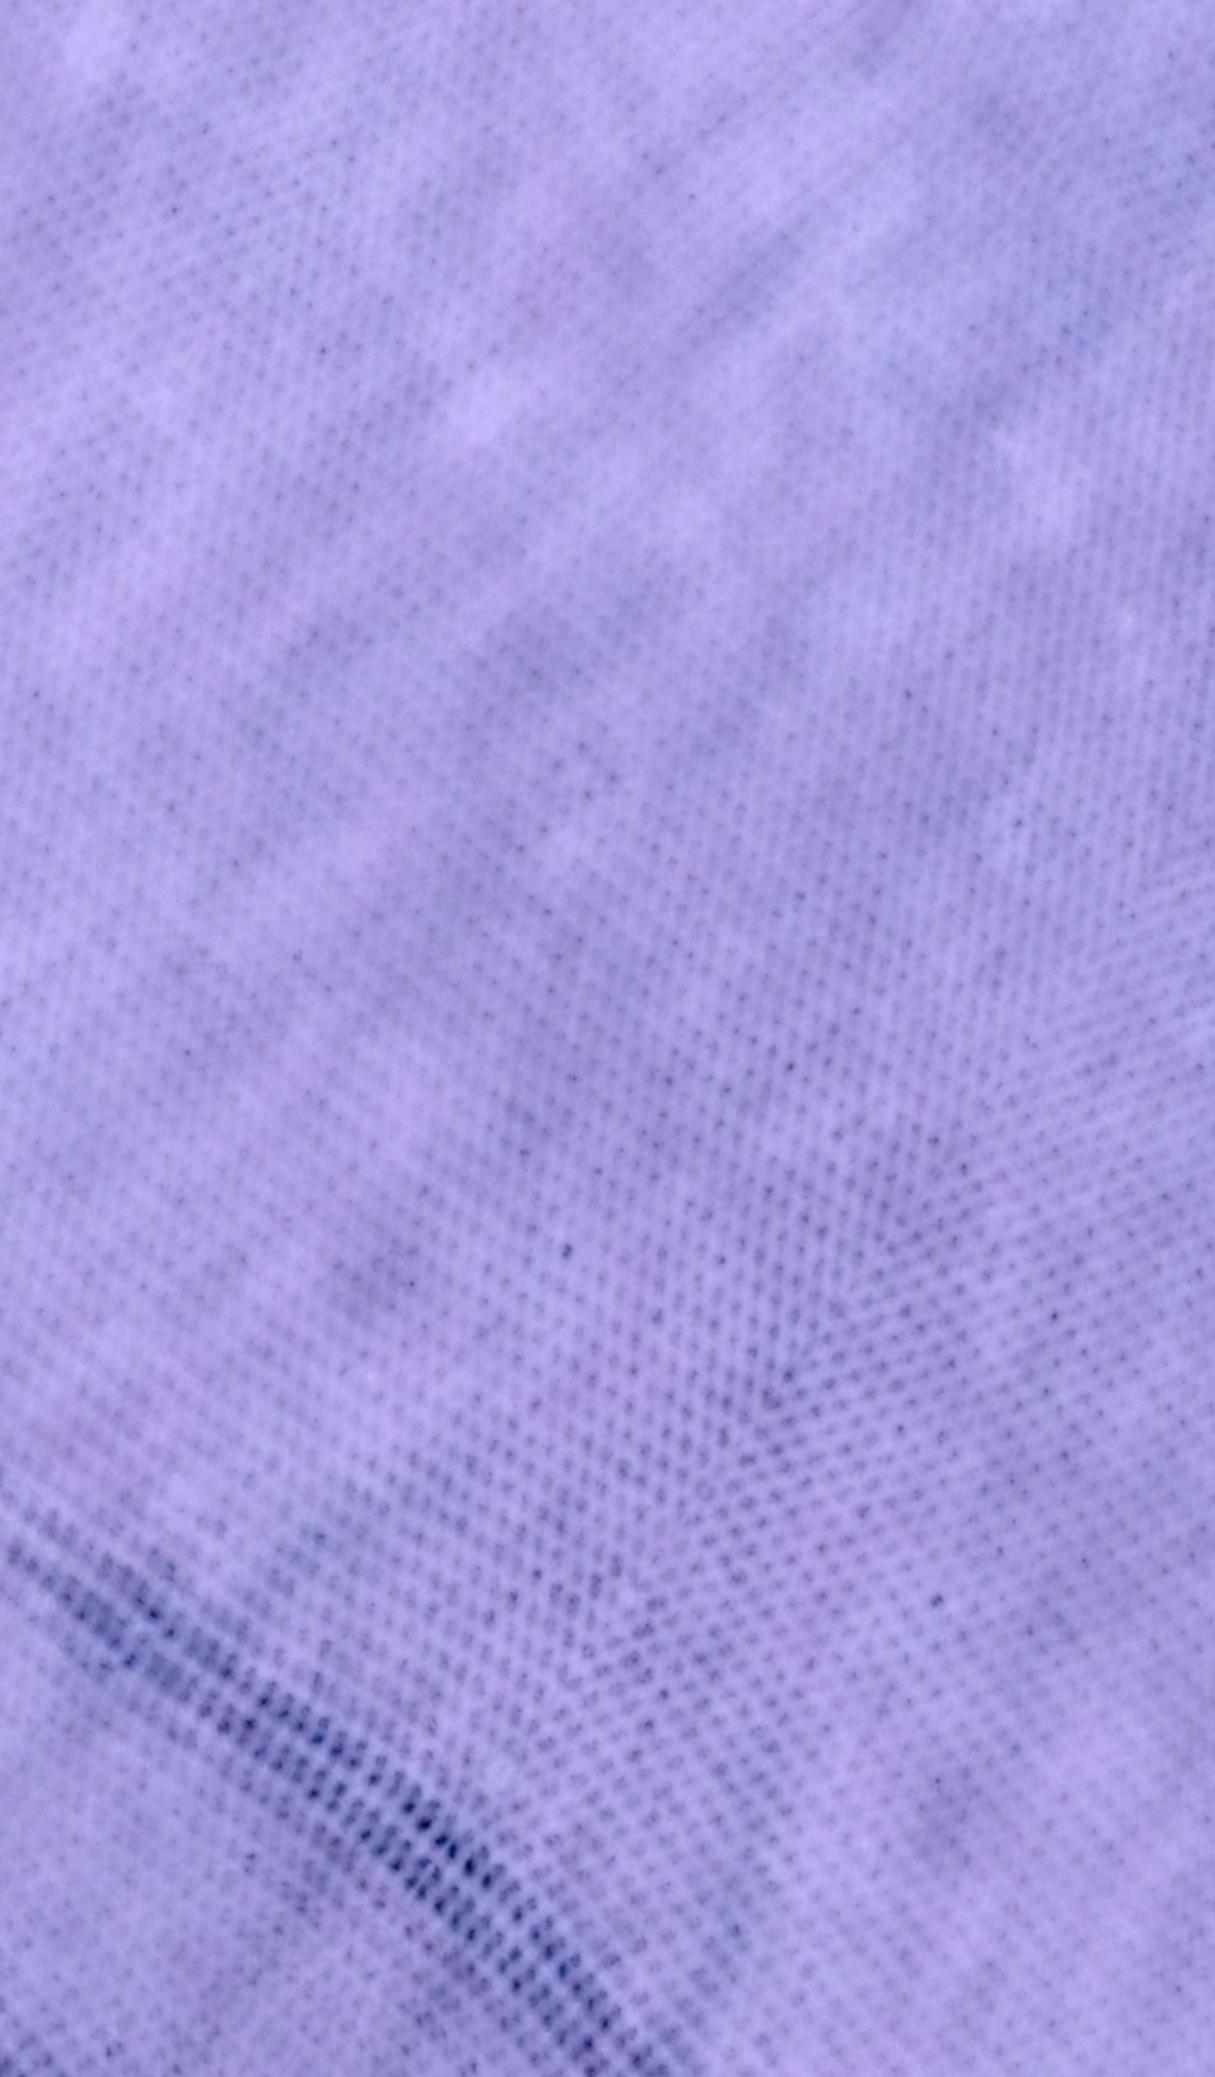slub: (1, 1472, 702, 2071)
